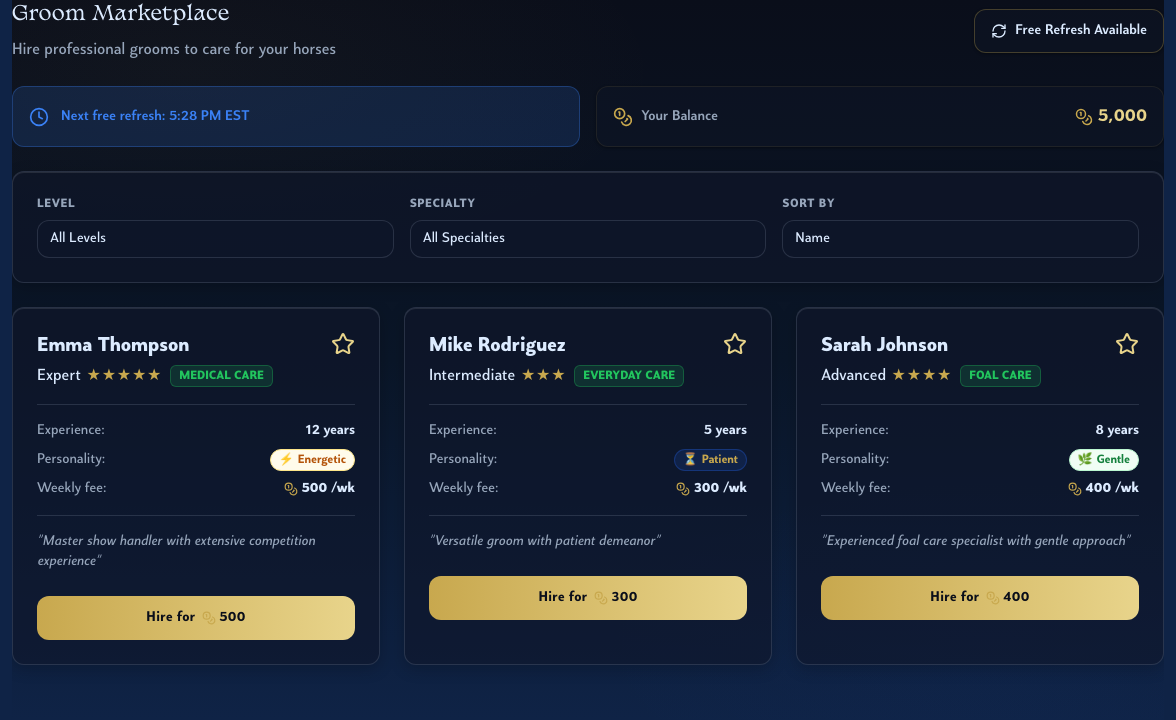
Scenario: GroomList Component › Filtering and Sorting › filters grooms by star level
Select "Advanced" in the dropdown with test id "star-level-filter" at (215, 239), box x1=37 y1=220 x2=394 y2=258
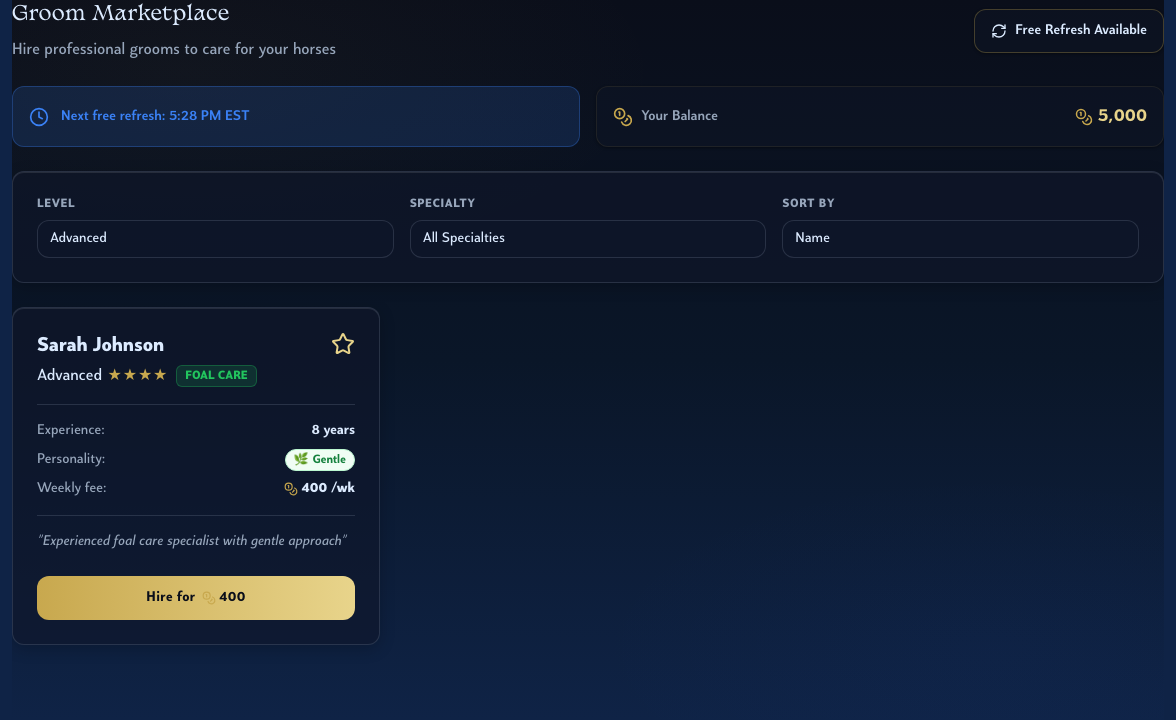
Expected: the heading "Sarah Johnson" is shown, x1=37 y1=336 x2=164 y2=356
Expected: the heading "Mike Rodriguez" is gone
